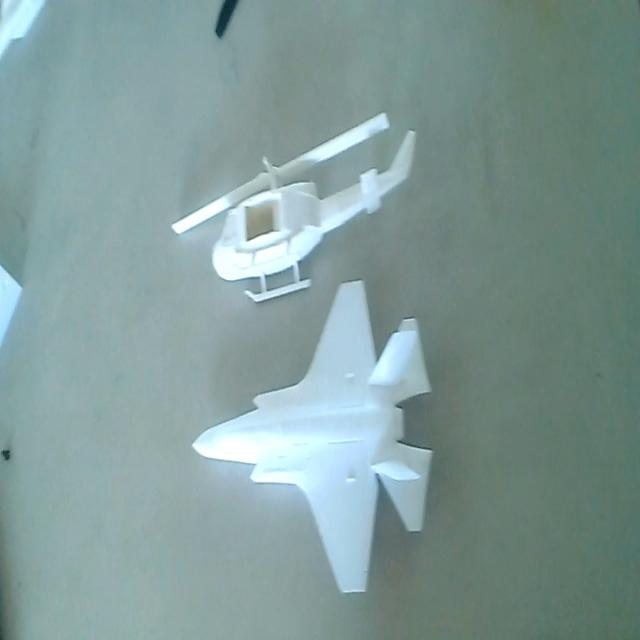Helicopter: (170, 107, 420, 307)
Jet: (185, 279, 443, 599)
